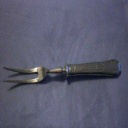Fork: (2, 48, 128, 93)
